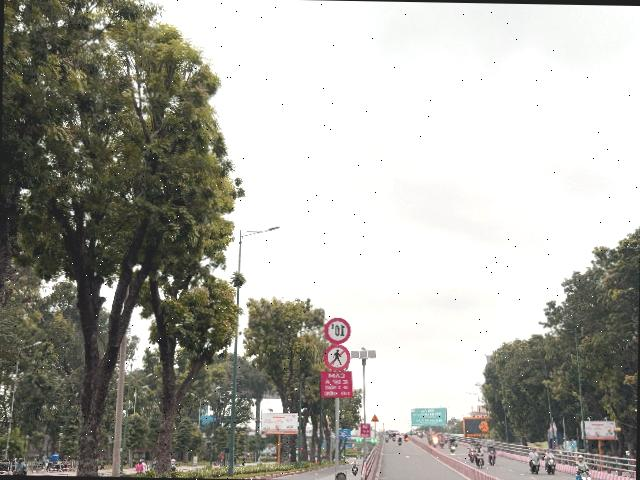cam-nguoi-di-bo: (324, 343, 351, 371)
han-che-trong-luong-xe: (324, 316, 352, 344)
